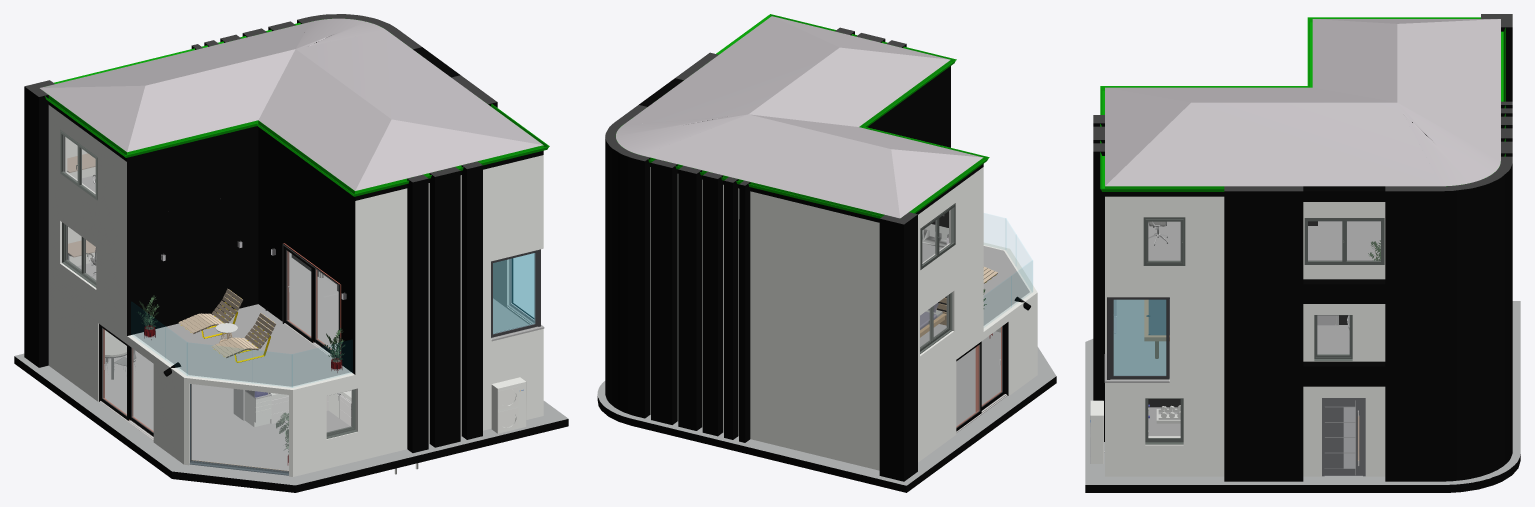
Rendered from house.glb.
3 renders of one model, left to right at view 1: azimuth 30°, elevation 25°; view 2: azimuth 150°, elevation 25°; view 3: azimuth 270°, elevation 25°, orthographic. The views are drawn at different scales.
Visible parts, largest first — view 1: Wall Murs <151523 Mur perso ext?rieur<, FamilyInstance Portes Doors_Sliding_MINCO_Extrem_PLC2_FR <20; view 2: Wall Murs <151523 Mur perso ext?rieur<, FamilyInstance Portes Doors_Sliding_MINCO_Extrem_PLC2_FR <20; view 3: Wall Murs <151523 Mur perso ext?rieur<, FamilyInstance Portes Doors_Sliding_MINCO_Extrem_PLC2_FR <20.
Boxes of the visible parts, x1,y1,x2,y2 form: Wall Murs <151523 Mur perso ext?rieur<: (14, 14, 568, 492); FamilyInstance Portes Doors_Sliding_MINCO_Extrem_PLC2_FR <20: (63, 135, 534, 471); Wall Murs <151523 Mur perso ext?rieur<: (597, 14, 1056, 492); FamilyInstance Portes Doors_Sliding_MINCO_Extrem_PLC2_FR <20: (920, 208, 1032, 427); Wall Murs <151523 Mur perso ext?rieur<: (1085, 14, 1520, 492); FamilyInstance Portes Doors_Sliding_MINCO_Extrem_PLC2_FR <20: (1114, 221, 1380, 438).
Size of the model in its own units: 11 by 10.17 by 11.
Materials: 2 (2 with a texture image).
